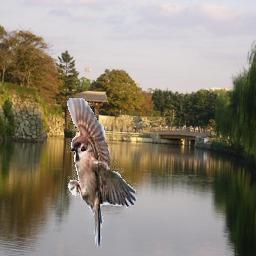Sparrow: (68, 97, 139, 250)
